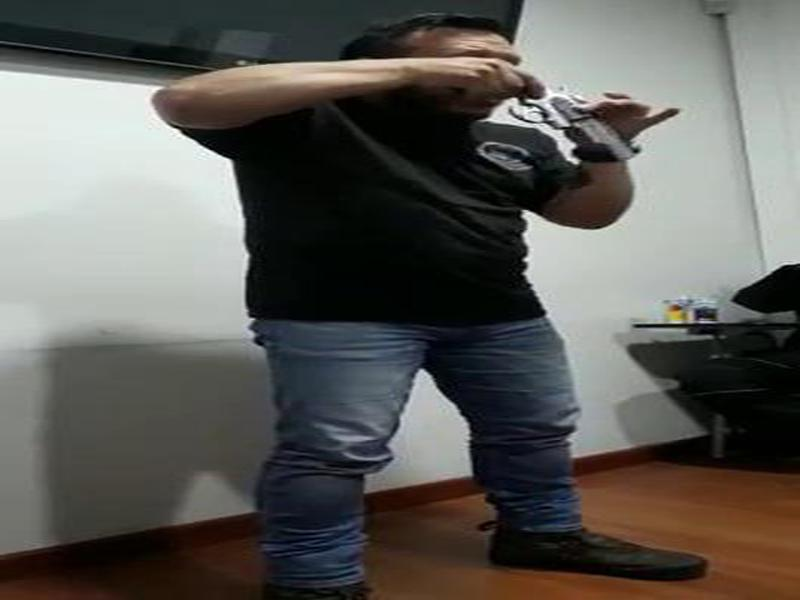Revolver: (479, 49, 658, 171)
